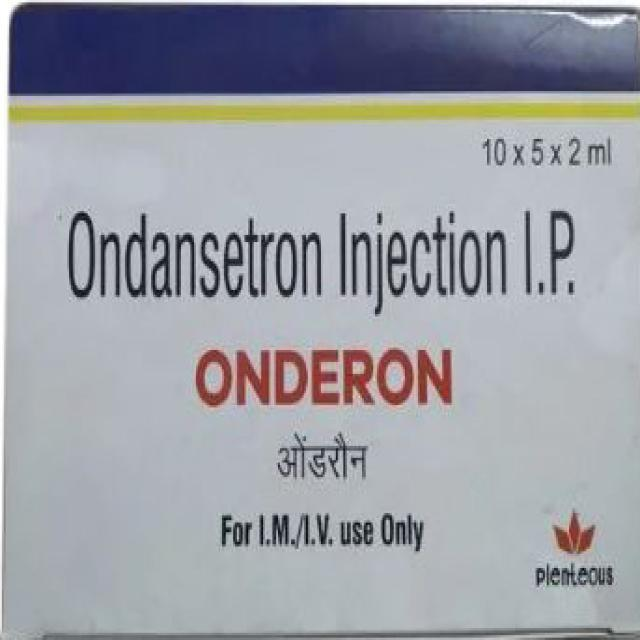drug-name: (190, 343, 460, 408)
